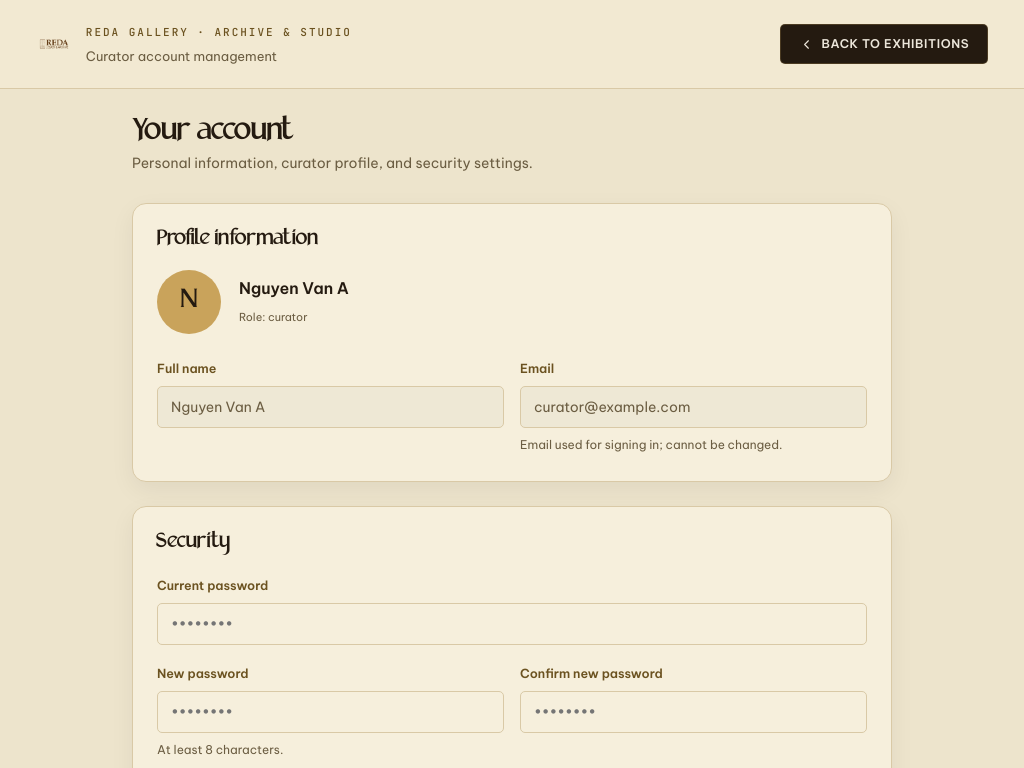
Test case: Account component › displays server error toast when endpoint returns error
The image size is (1024, 768).
Type "wrongpass" into the password field labelled "Current password" at [512, 624], box [157, 603, 867, 645]
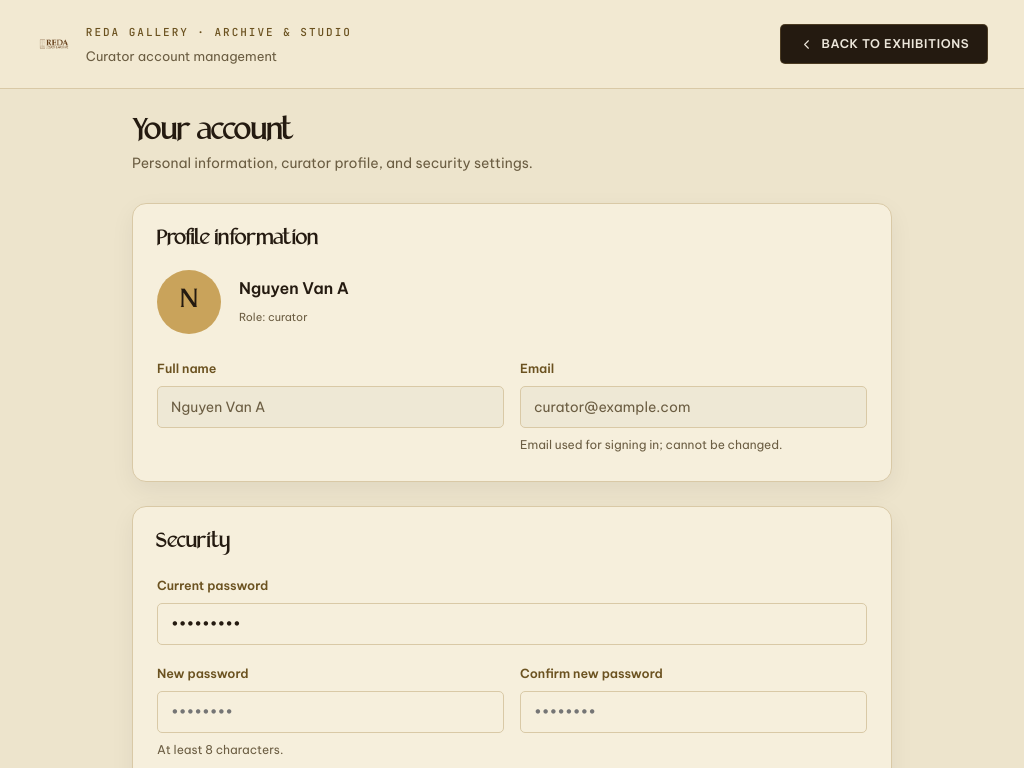
Type "newpassword123" into the password field labelled "New password" at [330, 712], box [157, 691, 504, 733]
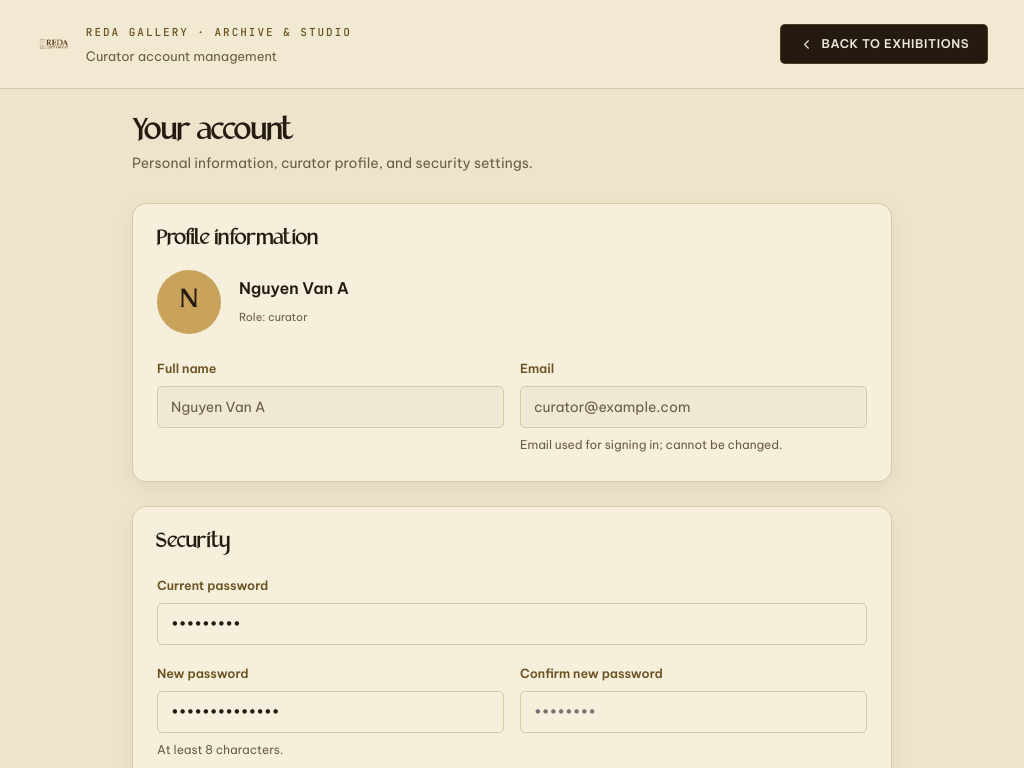
Type "newpassword123" into the password field labelled "Confirm new password" at [694, 712], box [520, 691, 867, 733]
(page scrolled)
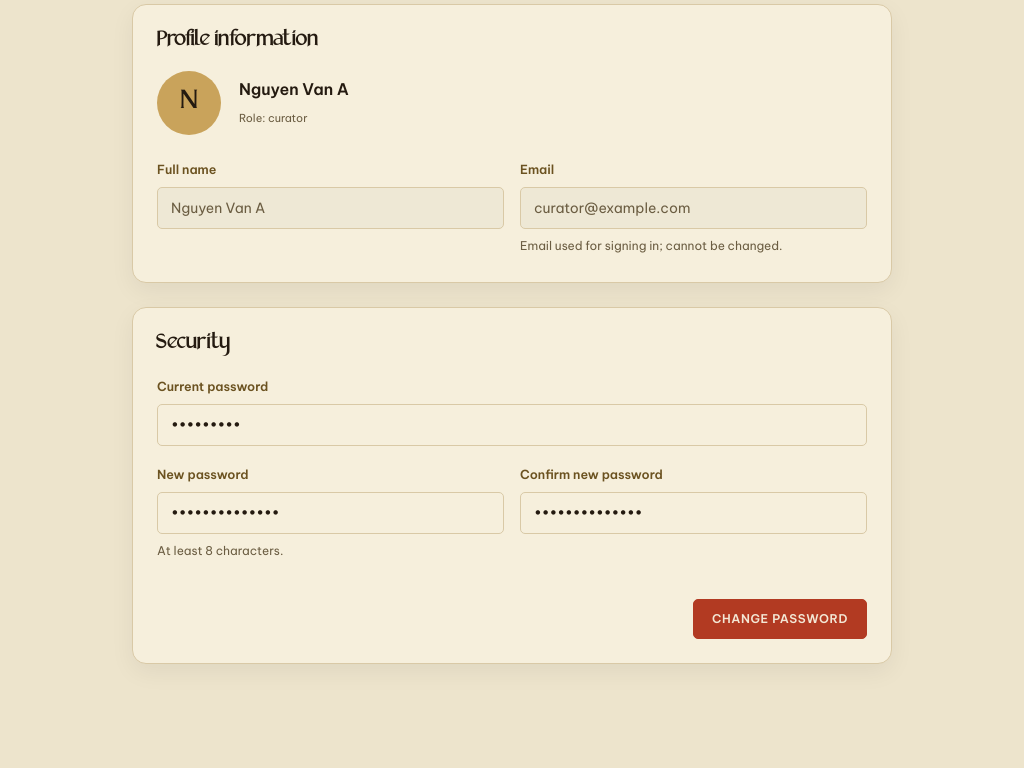
Click the button "Change password" at [780, 619], box [693, 599, 867, 639]
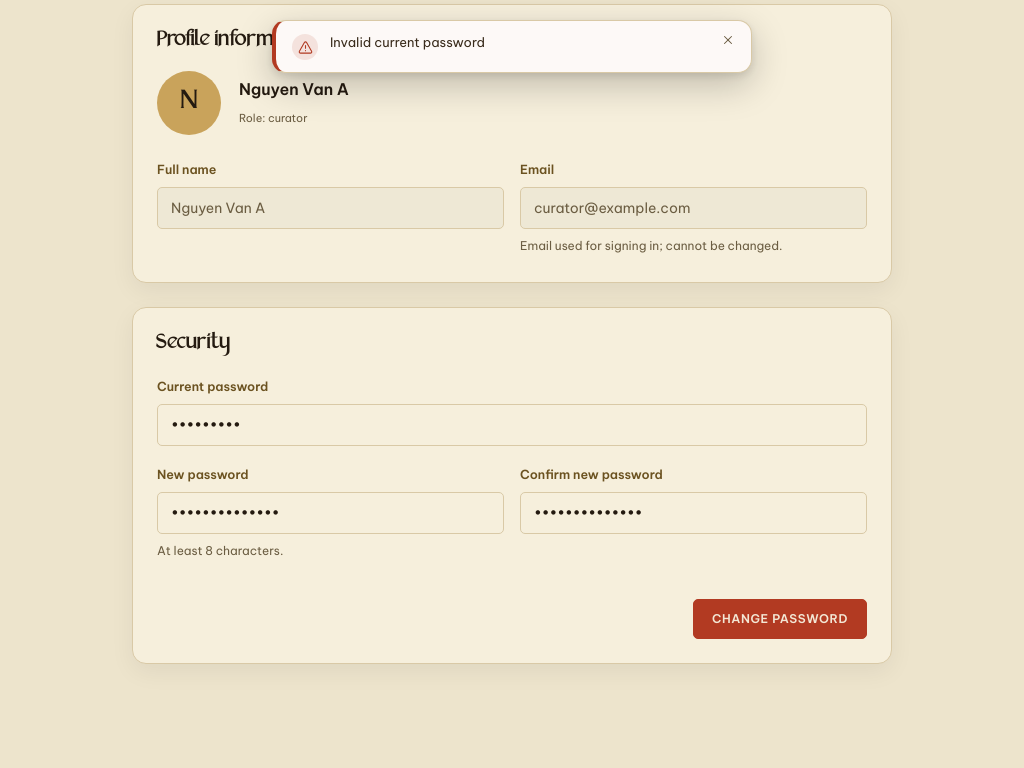
Expected: the text "Invalid current password" is shown, [330, 34, 485, 50]
